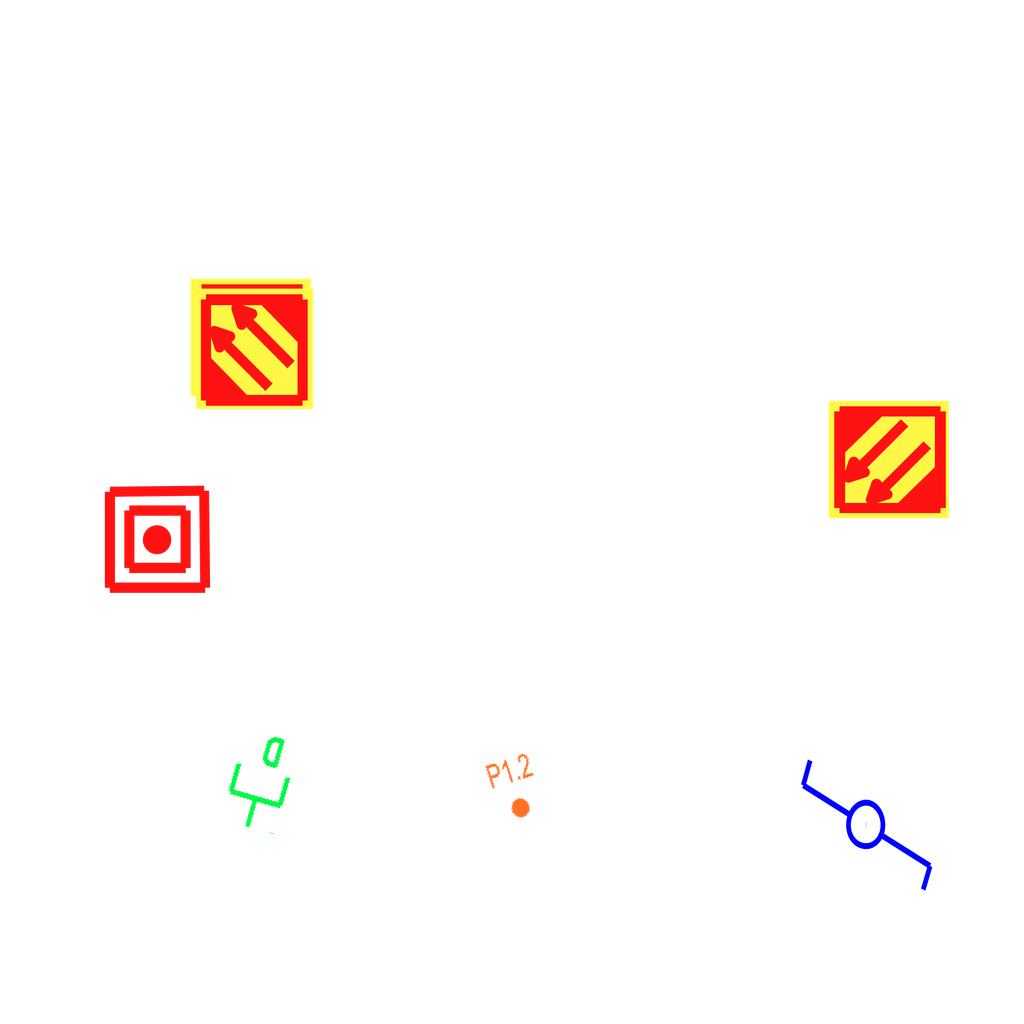ASR_Ansaugrauchmelder: (188, 275, 313, 400), (826, 397, 951, 522), (192, 286, 317, 411)
Datenanschluss_einfach: (211, 723, 306, 839)
Downlight_LED_Einbauleuchten_Flur: (483, 750, 547, 826)
NAM-Nichtautomatischer_Melder: (101, 483, 214, 596)
Wechselschalter: (796, 738, 940, 895)
